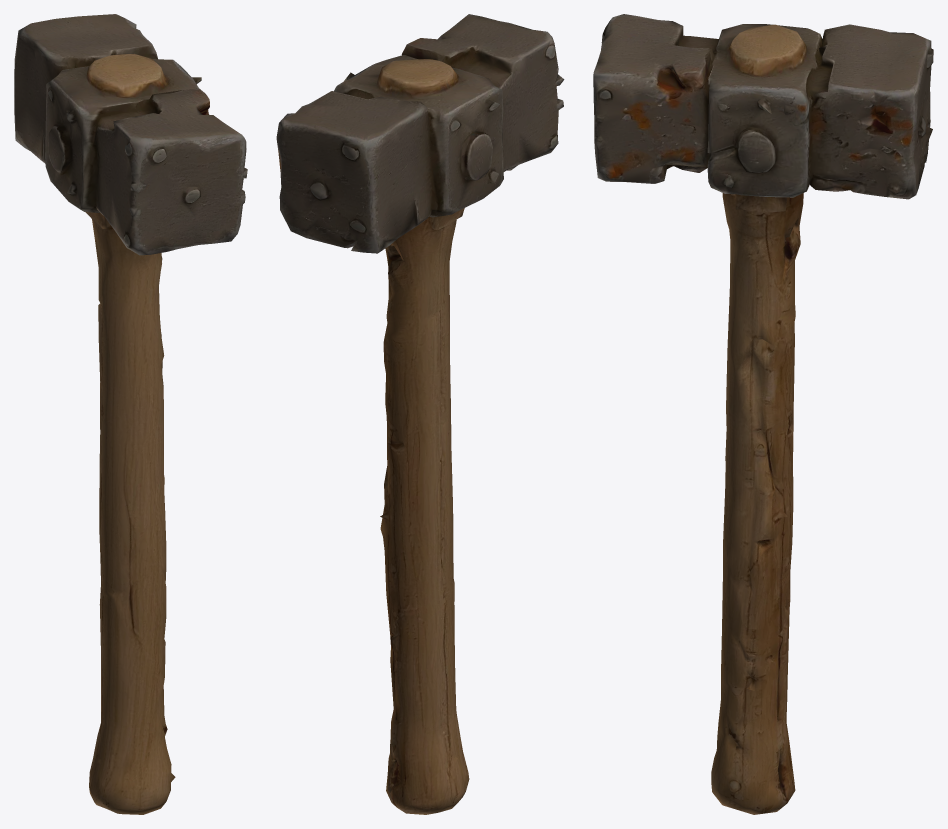
Rendered from sledgehammer_slim.cca14f89bf.glb.
3 renders of one model, left to right at view 1: azimuth 30°, elevation 25°; view 2: azimuth 150°, elevation 25°; view 3: azimuth 270°, elevation 25°, orthographic. The views are drawn at different scales.
Parts seen in each view (by area): view 1: sledgehammer_slim; view 2: sledgehammer_slim; view 3: sledgehammer_slim.
Part boxes in pixels (x1,y1,x2,y2): sledgehammer_slim: (14, 14, 247, 814); sledgehammer_slim: (276, 14, 564, 814); sledgehammer_slim: (593, 14, 933, 814).
Size of the model in its own units: 0.1876 by 0.9108 by 0.3677.
Materials: 1 (1 with a texture image).
